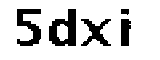5: (9, 4, 44, 52)
d: (45, 7, 79, 49)
i: (115, 5, 137, 50)
x: (78, 13, 114, 52)
